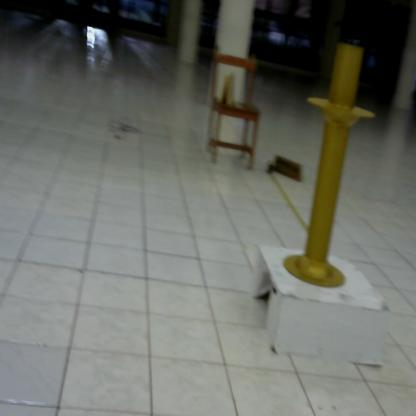pole: (282, 37, 389, 295)
